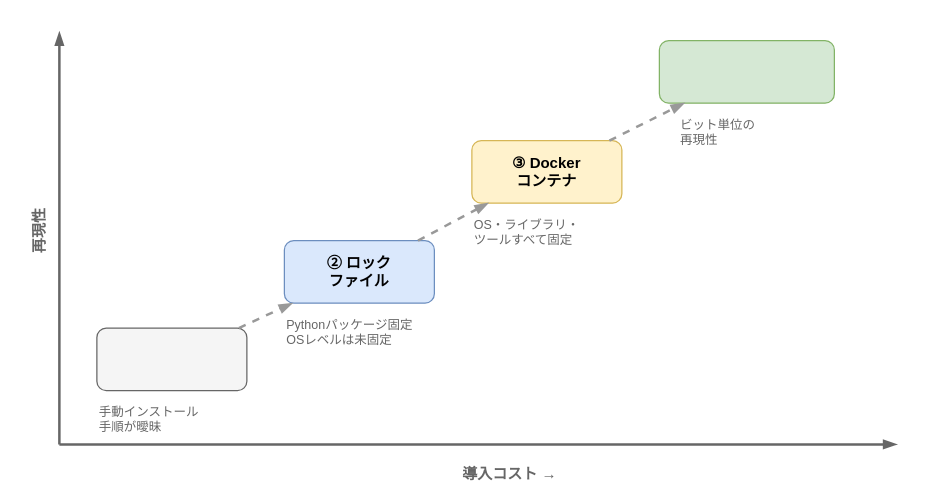
Image size: 929x504. Some labels were removed from this diagram. The shapes that lost their labels are listed below. From the top down, each one's centre as x and y in pixels, then its label:
point (746, 71): ④ ダイジェスト + ワークフロー
point (171, 359): ① README に記述
